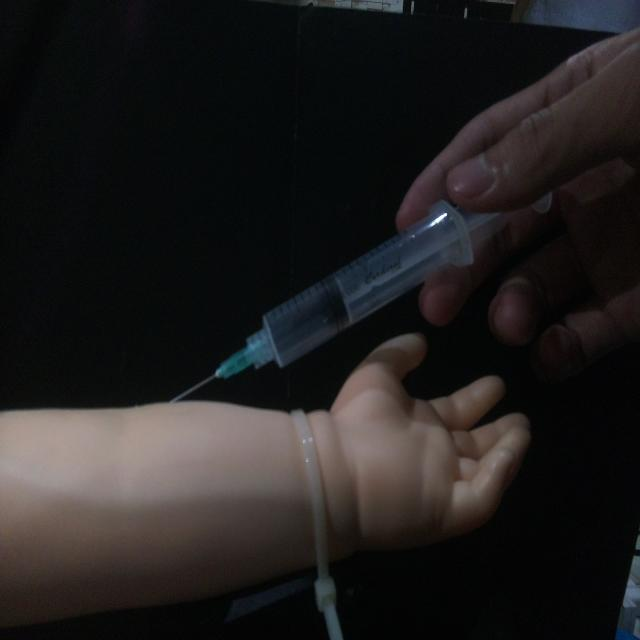17deg: (162, 187, 552, 406)
